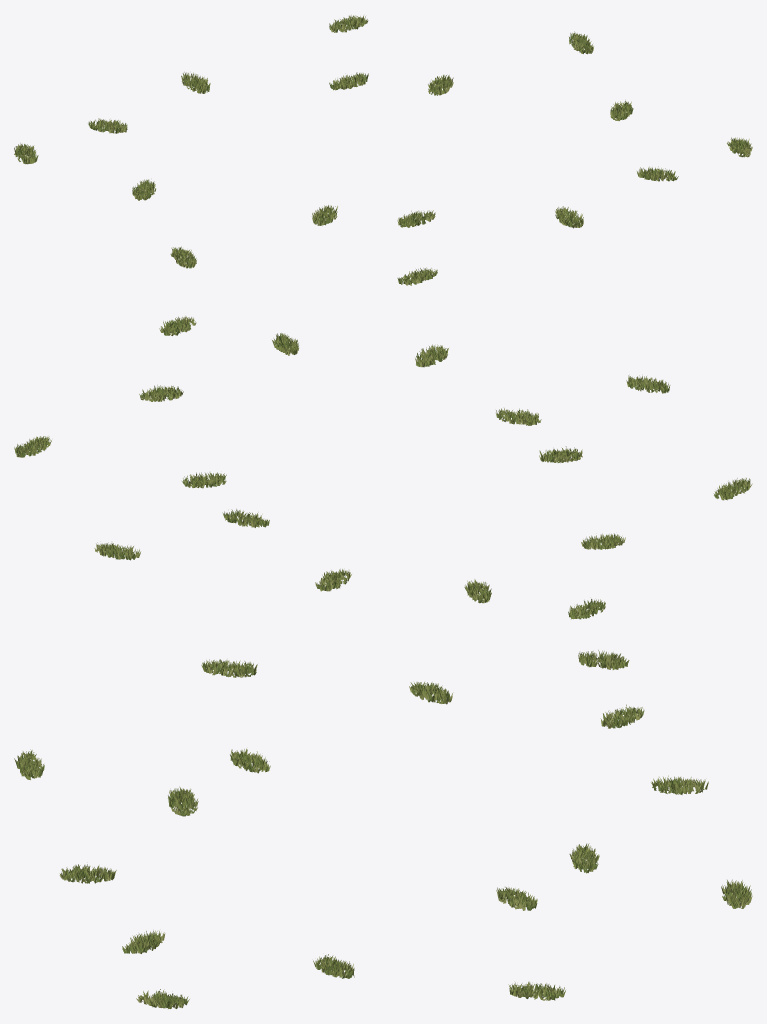
File: SM_R01_Bushes_NoCollision.fbx
3 views of the same model, one above another, from view 1: azimuth 30°, elevation 25°; view 2: azimuth 150°, elevation 25°; view 3: azimuth 270°, elevation 25° (orthographic). The views are drawn at different scales.
Visible parts, largest first — view 1: SM_R01_Bushes_NoCollision; view 2: SM_R01_Bushes_NoCollision; view 3: SM_R01_Bushes_NoCollision.
Boxes of the visible parts, x1,y1,x2,y2 form: SM_R01_Bushes_NoCollision: [14, 15, 752, 285]; SM_R01_Bushes_NoCollision: [14, 316, 752, 619]; SM_R01_Bushes_NoCollision: [14, 650, 752, 1008].
Size of the model in its own units: 87.54 by 77.32 by 1.23.
